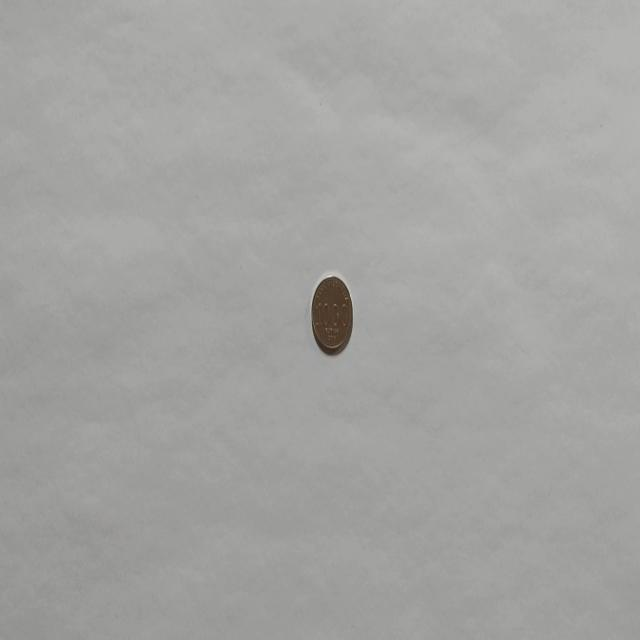seribu rupiah koin: (310, 272, 353, 356)
